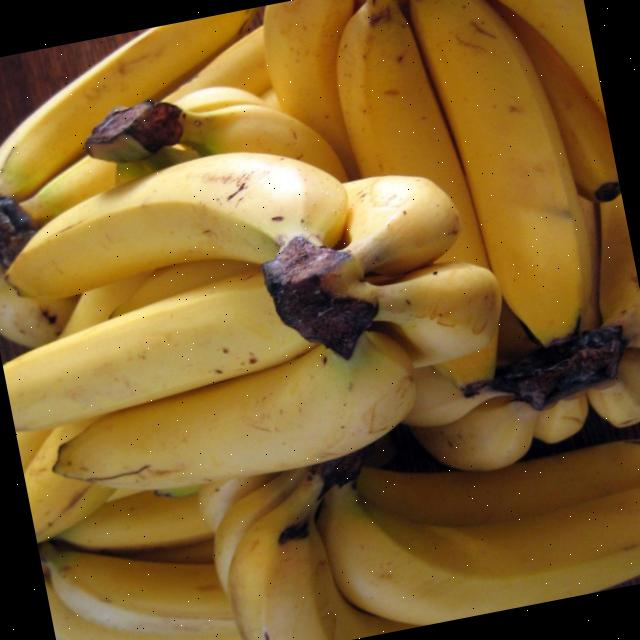banana: (402, 0, 600, 330), (54, 322, 420, 493), (8, 149, 352, 303)
